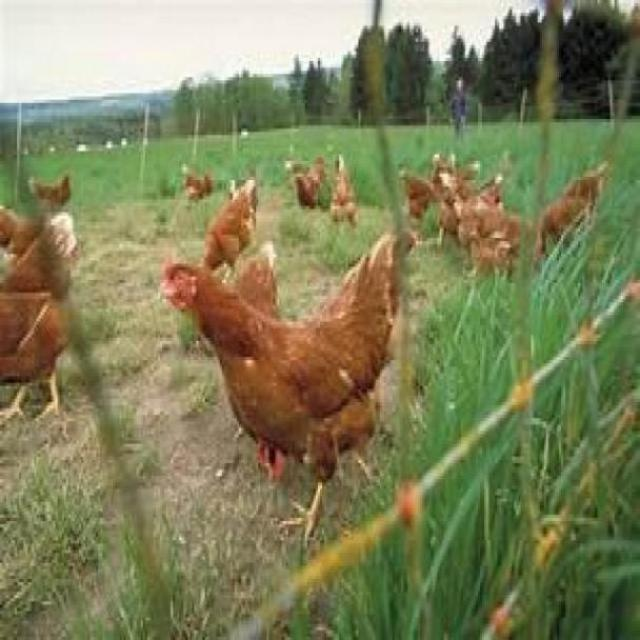Chicken: (160, 235, 393, 540), (0, 229, 75, 425), (228, 242, 288, 483), (535, 174, 604, 254), (203, 177, 262, 270), (0, 203, 79, 267), (329, 148, 359, 223), (399, 167, 433, 219), (30, 174, 75, 209), (294, 170, 320, 209), (184, 167, 214, 196)
